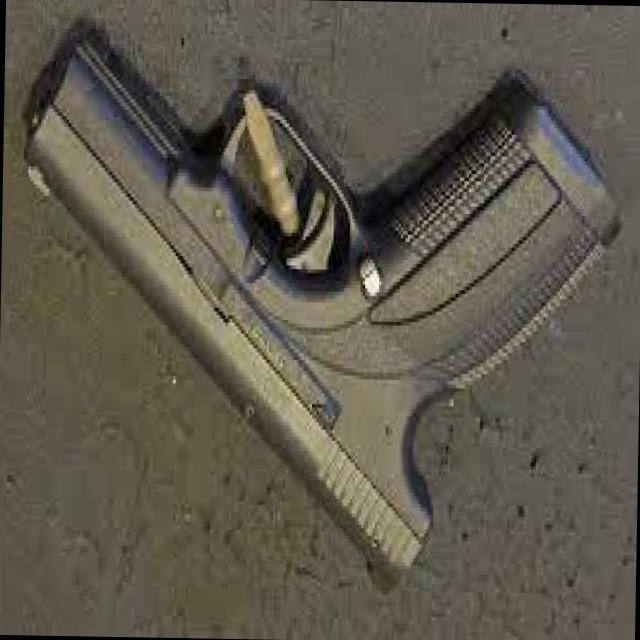Gun: (14, 0, 636, 605)
